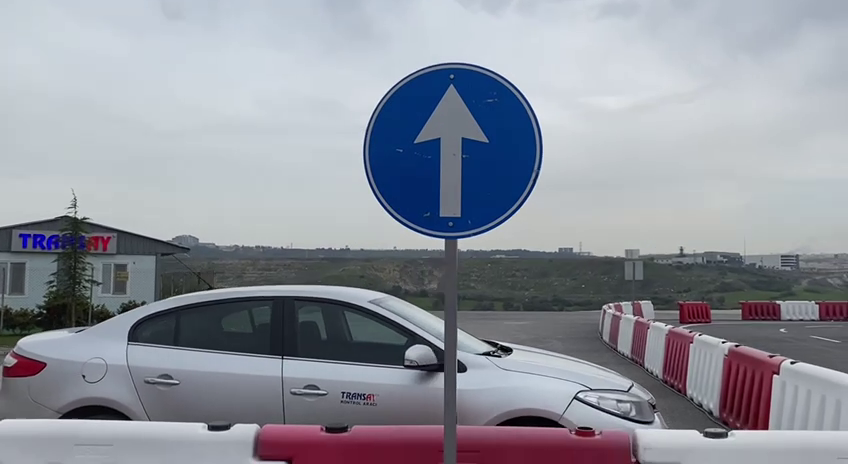forward: (356, 57, 546, 244)
